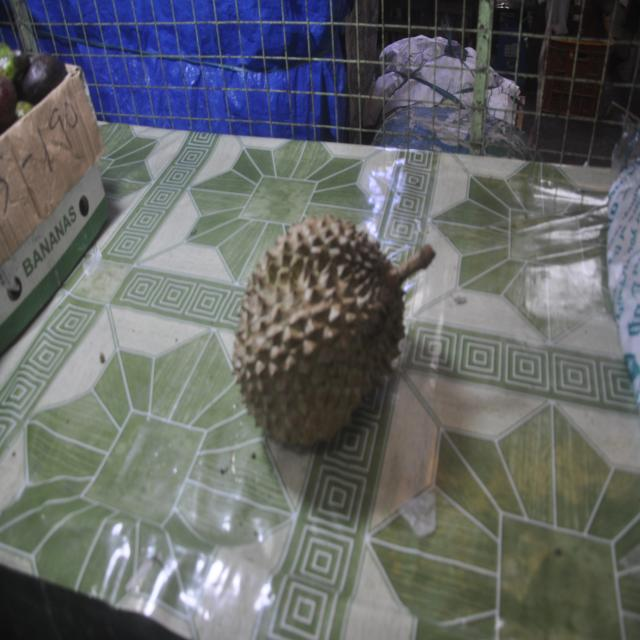mature: (233, 216, 434, 444)
